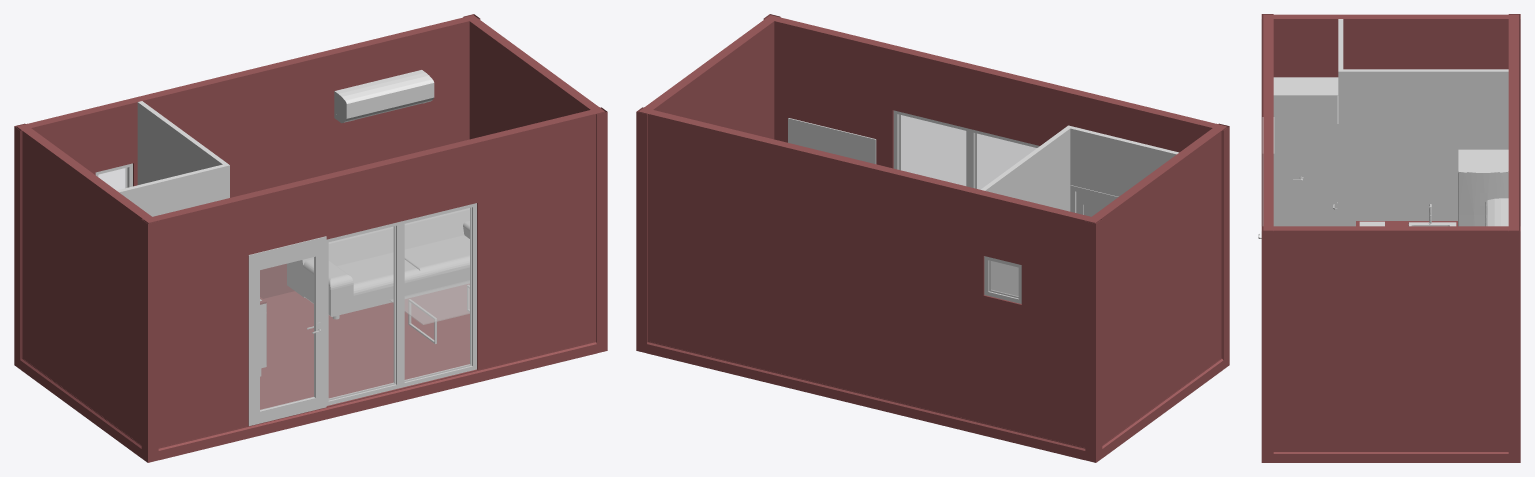
The picture shows the model from 3 angles, left to right: view 1: azimuth 30°, elevation 25°; view 2: azimuth 150°, elevation 25°; view 3: azimuth 270°, elevation 25°; orthographic projection. The views are drawn at different scales.
Parts seen in each view (by area): view 1: IfcWallStandardCase/C01 (5), IfcWallStandardCase/C01 (3), IfcWallStandardCase/C01, IfcSlab/ (12), IfcDoor/89-155, IfcWindow/53-35, IfcWindow/53-40, IfcFurnishingElement/ (25), IfcWall/ (34), IfcWallStandardCase/C01 (4), IfcWall/ (36), IfcWallStandardCase/C01 (6) (+4 smaller); view 2: IfcWallStandardCase/C01 (3), IfcWallStandardCase/C01 (5), IfcWallStandardCase/C01, IfcWall/ (34), IfcWallStandardCase/C01 (4), IfcWall/ (36), IfcWallStandardCase/C01 (6), IfcWallStandardCase/C01 (8), IfcWindow/53-35, IfcWindow/53-40, IfcBuildingElementProxy/ (27), IfcWindow/52-41 (+1 smaller); view 3: IfcWallStandardCase/C01 (4), IfcWallStandardCase/C01 (6), IfcWallStandardCase/C01, IfcFurnishingElement/ (15), IfcWall/ (34), IfcBuildingElementProxy/ (23), IfcWall/ (36), IfcWallStandardCase/C01 (3), IfcWallStandardCase/C01 (5), IfcEnergyConversionDevice/ (33), IfcDoor/89-155, IfcWallStandardCase/C01 (8) (+2 smaller).
Boxes of the visible parts, x1,y1,x2,y2 form: IfcWallStandardCase/C01 (5): [153, 110, 595, 447]; IfcWallStandardCase/C01 (3): [26, 15, 478, 298]; IfcWallStandardCase/C01: [16, 124, 157, 444]; IfcSlab/ (12): [260, 284, 469, 409]; IfcDoor/89-155: [248, 236, 326, 425]; IfcWindow/53-35: [399, 203, 476, 387]; IfcWindow/53-40: [326, 222, 399, 405]; IfcFurnishingElement/ (25): [287, 208, 469, 319]; IfcWall/ (34): [14, 14, 607, 462]; IfcWallStandardCase/C01 (4): [469, 19, 605, 139]; IfcWall/ (36): [20, 341, 596, 460]; IfcWallStandardCase/C01 (6): [137, 101, 229, 198]; IfcWallStandardCase/C01 (3): [638, 107, 1090, 447]; IfcWallStandardCase/C01 (5): [774, 17, 1217, 168]; IfcWallStandardCase/C01: [1086, 124, 1227, 444]; IfcWall/ (34): [636, 14, 1229, 462]; IfcWallStandardCase/C01 (4): [644, 15, 779, 139]; IfcWall/ (36): [647, 341, 1223, 460]; IfcWallStandardCase/C01 (6): [980, 125, 1072, 295]; IfcWallStandardCase/C01 (8): [1070, 126, 1178, 196]; IfcWindow/53-35: [893, 110, 970, 186]; IfcWindow/53-40: [968, 129, 1039, 189]; IfcBuildingElementProxy/ (27): [788, 118, 876, 163]; IfcWindow/52-41: [984, 256, 1021, 303]; IfcWallStandardCase/C01 (4): [1263, 226, 1508, 450]; IfcWallStandardCase/C01 (6): [1338, 69, 1508, 226]; IfcWallStandardCase/C01: [1263, 14, 1518, 77]; IfcFurnishingElement/ (15): [1273, 77, 1338, 226]; IfcWall/ (34): [1261, 14, 1520, 462]; IfcBuildingElementProxy/ (23): [1458, 149, 1508, 226]; IfcWall/ (36): [1273, 451, 1508, 462]; IfcWallStandardCase/C01 (3): [1508, 19, 1518, 231]; IfcWallStandardCase/C01 (5): [1263, 19, 1273, 226]; IfcEnergyConversionDevice/ (33): [1485, 198, 1508, 226]; IfcDoor/89-155: [1258, 117, 1274, 238]; IfcWallStandardCase/C01 (8): [1338, 19, 1343, 69].
Size of the model in its own units: 604 by 300 by 308.
